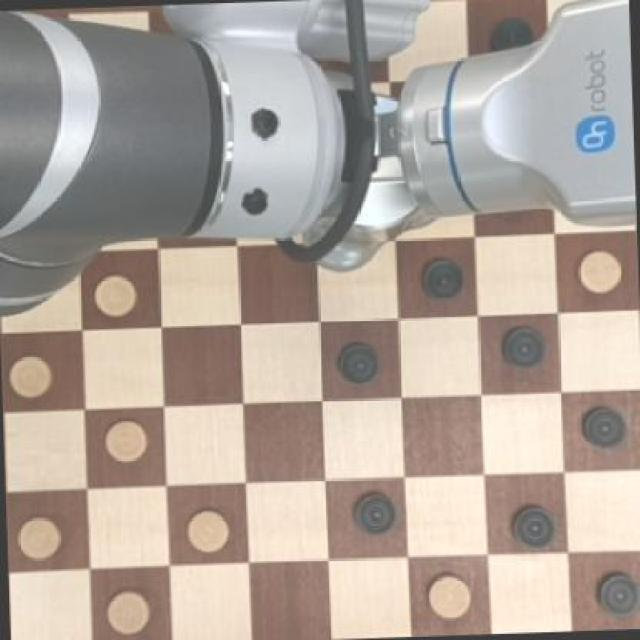black: (494, 322, 550, 378), (348, 486, 401, 544), (416, 252, 470, 308), (503, 501, 561, 551), (576, 399, 626, 453), (591, 566, 639, 618), (330, 338, 380, 386)
white: (99, 411, 150, 470), (183, 502, 234, 558), (574, 243, 624, 300), (102, 583, 154, 637), (6, 350, 54, 405), (12, 515, 67, 562), (426, 571, 476, 620), (89, 276, 142, 319)
